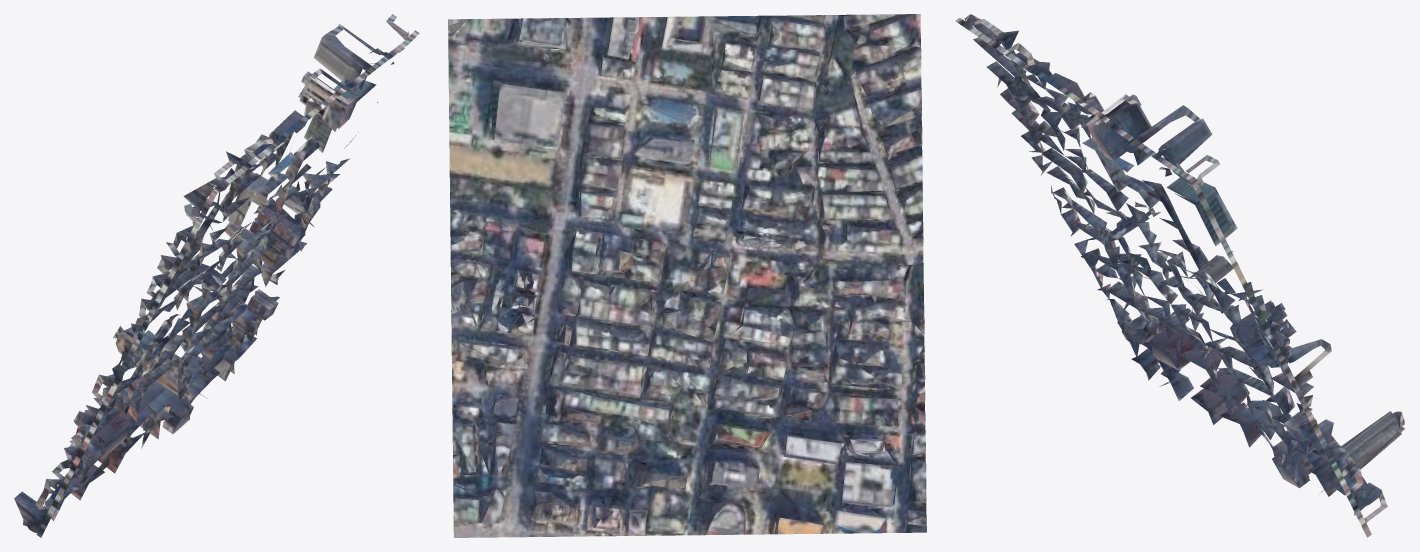
3 renders of one model, left to right at view 1: azimuth 30°, elevation 25°; view 2: azimuth 150°, elevation 25°; view 3: azimuth 270°, elevation 25°, orthographic. The views are drawn at different scales.
Size of the model in its own units: 627 by 585 by 559.
1 material, 1 textured.
